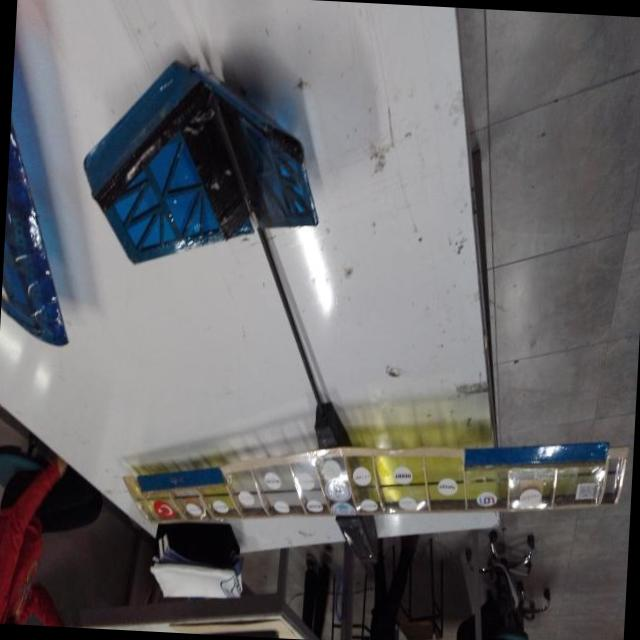UAV: (96, 63, 628, 578)
